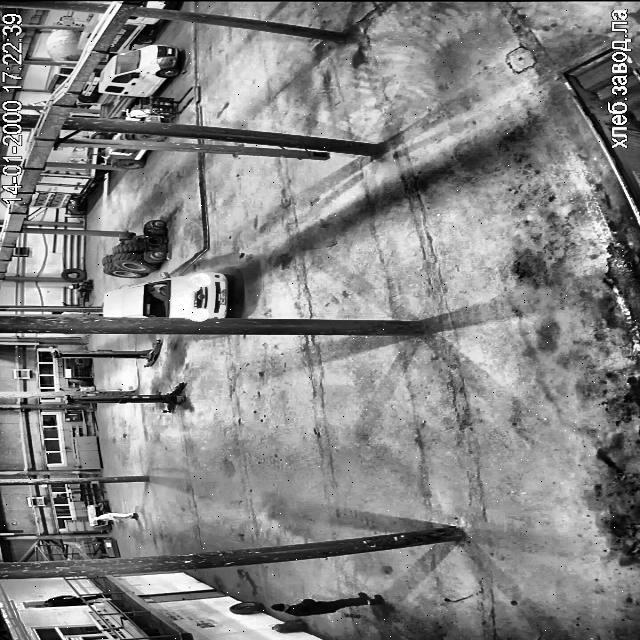class4: (270, 592, 381, 616), (44, 593, 108, 606), (92, 512, 137, 520), (52, 311, 101, 316)
class7: (99, 44, 180, 116), (28, 166, 107, 207), (108, 16, 160, 52), (117, 97, 176, 122), (46, 30, 81, 64), (99, 144, 146, 169), (46, 147, 100, 164), (80, 13, 105, 48), (89, 131, 164, 142), (45, 66, 73, 92), (78, 75, 100, 104), (134, 0, 177, 8), (61, 132, 68, 135)
tractor: (273, 619, 306, 632)
truck: (64, 383, 185, 412), (52, 340, 161, 366)
